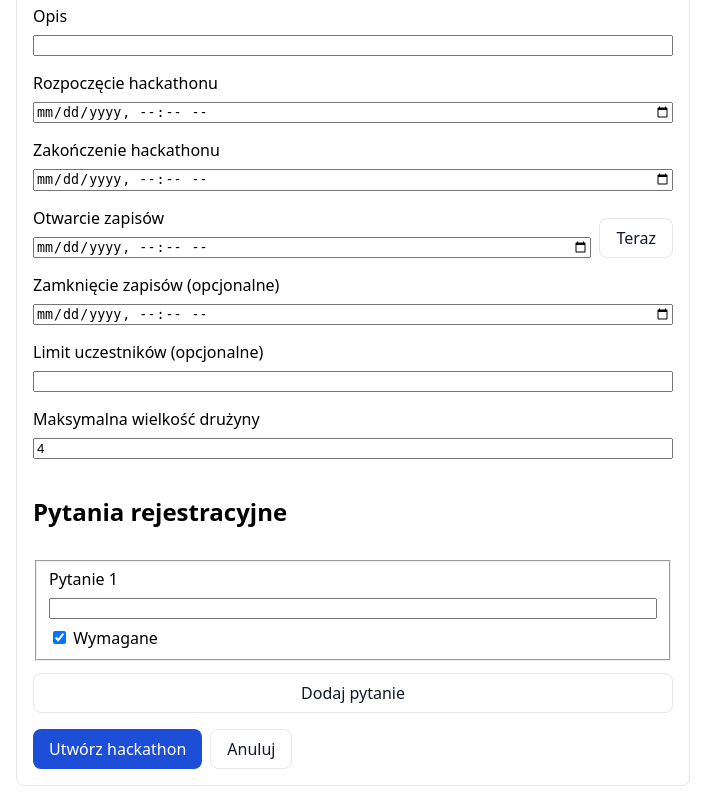
Test: CreateHackathonPage › validates required fields before sending the request
(page scrolled)
What coordinates should you click on to do the following:
click the button "Utwórz hackathon"
I would click on:
 (118, 749)
Its box is [33,729,202,769].
(page scrolled)
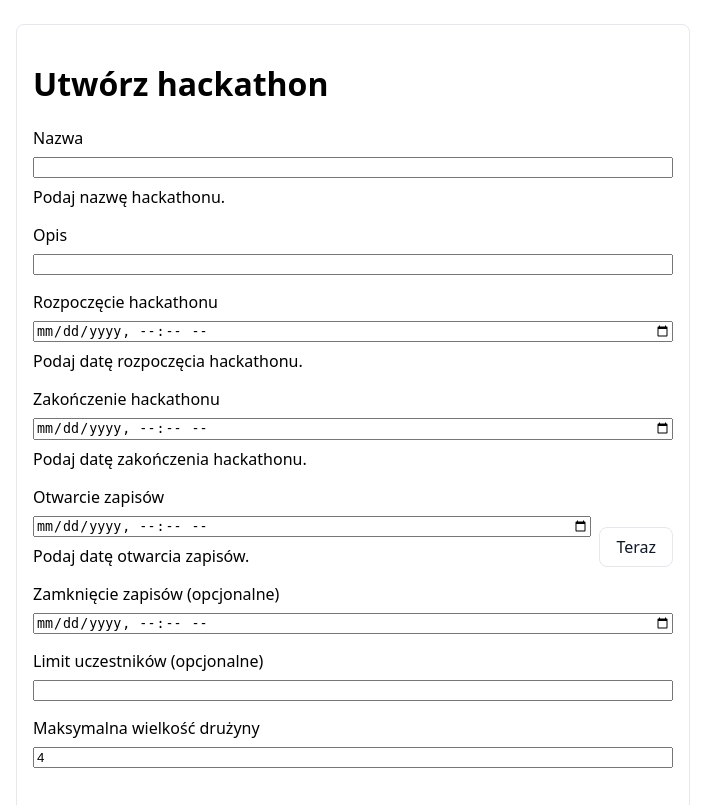
Now the text "Podaj nazwę hackathonu." is shown, box [33,186,225,208]
